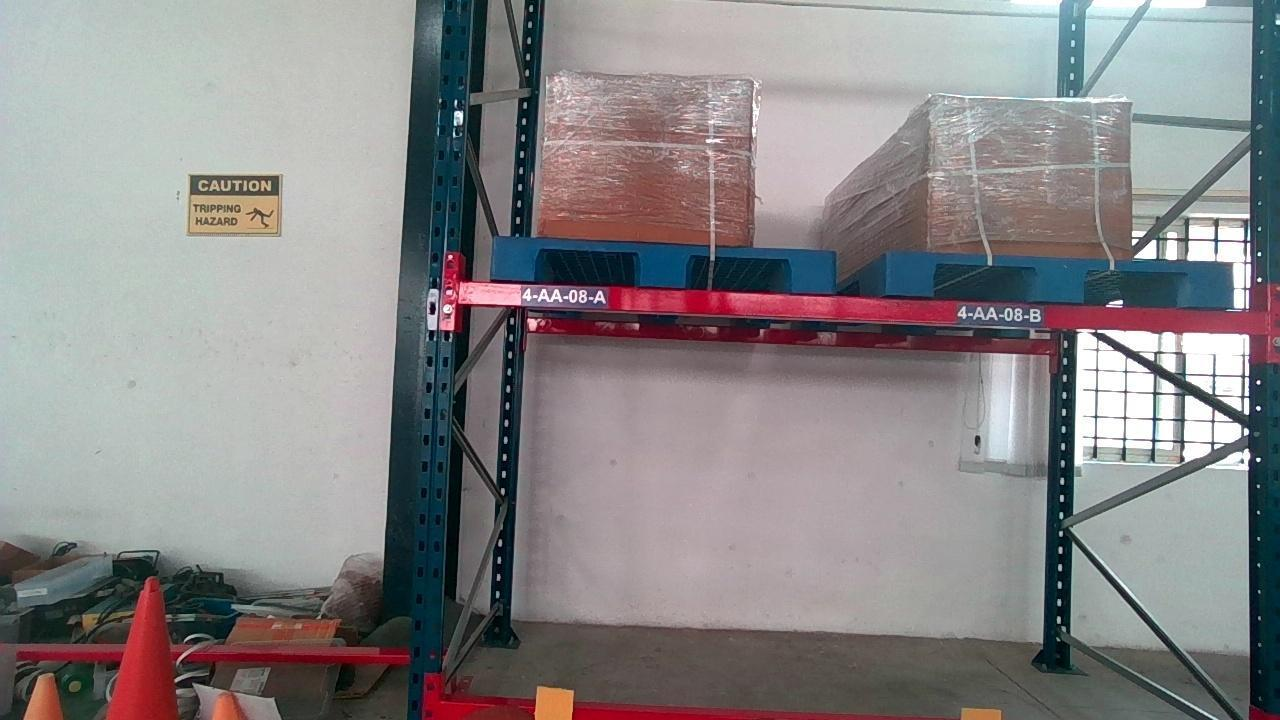h_rack: (460, 285, 1253, 335)
orange_strip: (532, 686, 575, 720)
small_pallet: (894, 254, 1227, 302), (496, 240, 832, 284)
